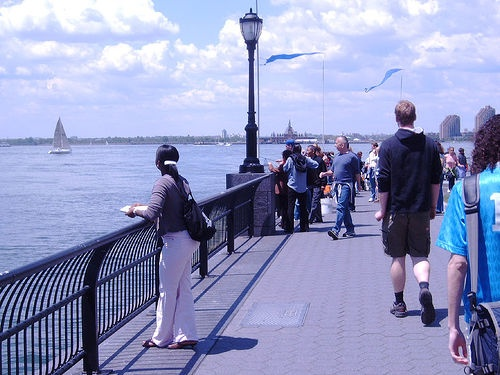head: (154, 142, 180, 179), (394, 99, 418, 130), (332, 132, 350, 156)
person: (435, 100, 500, 375), (120, 141, 203, 353), (375, 98, 442, 325), (325, 135, 360, 239), (283, 138, 317, 232), (268, 147, 291, 231), (306, 143, 328, 224), (365, 141, 379, 202)
